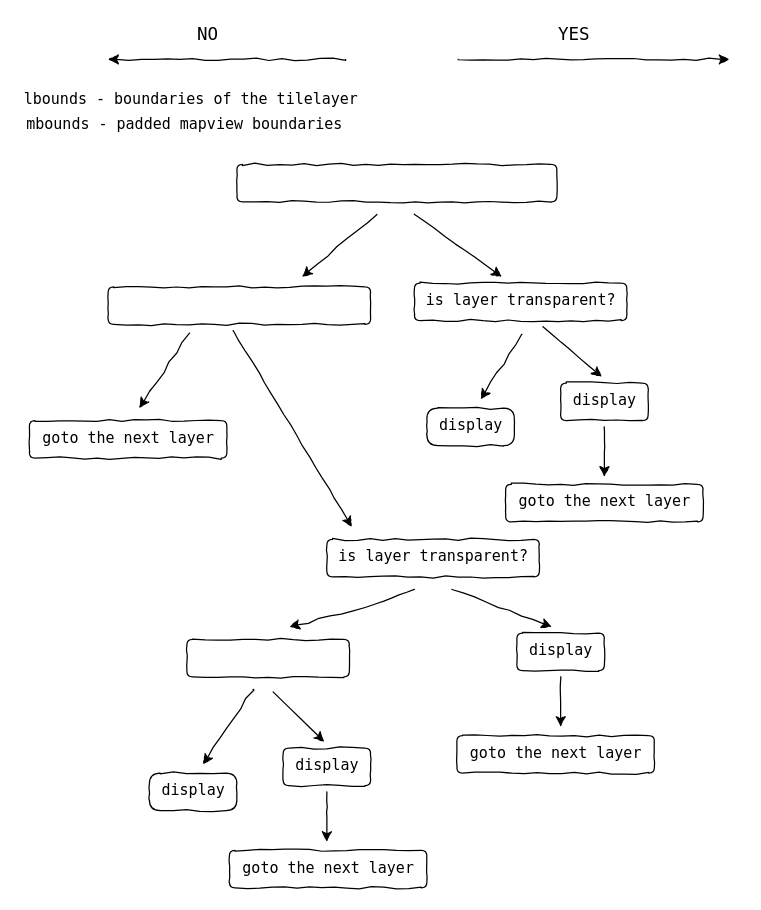
Image size: 761x910. Some labels were removed from this diagram. The shapes that lost their labels are listed below. From the top down, each one's box as (x1, y1, x2, y2) in pixels, then its label:
(236, 163, 557, 202): is layer without bounds value?
(107, 286, 371, 324): lbounds intersects mbounds?
(186, 638, 349, 677): lbounds visible?
